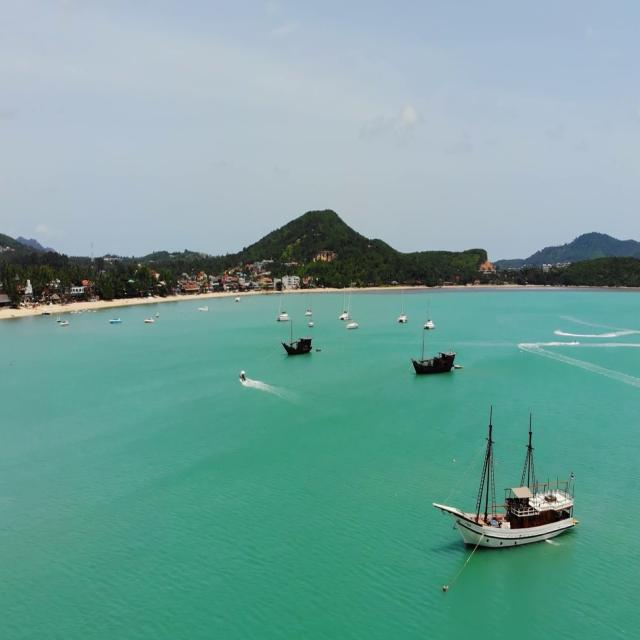fishing boat: (436, 422, 585, 545), (402, 322, 456, 381), (279, 324, 317, 367)
